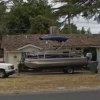Boat: (20, 48, 91, 73)
